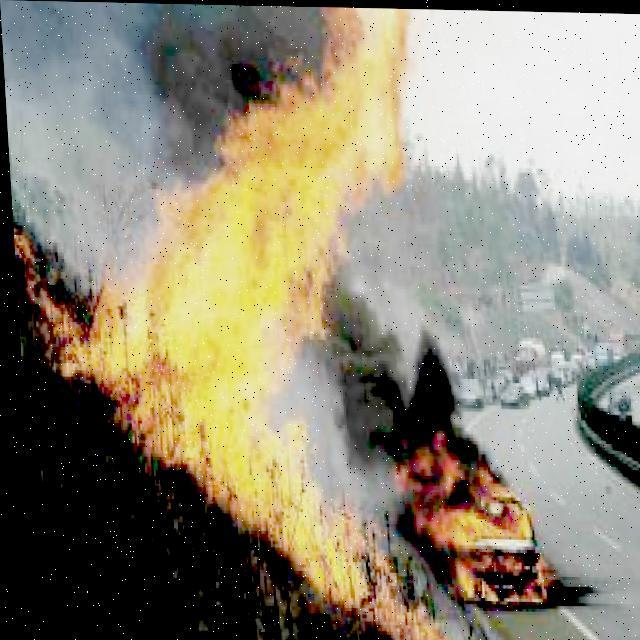Fire: (402, 428, 540, 604)
